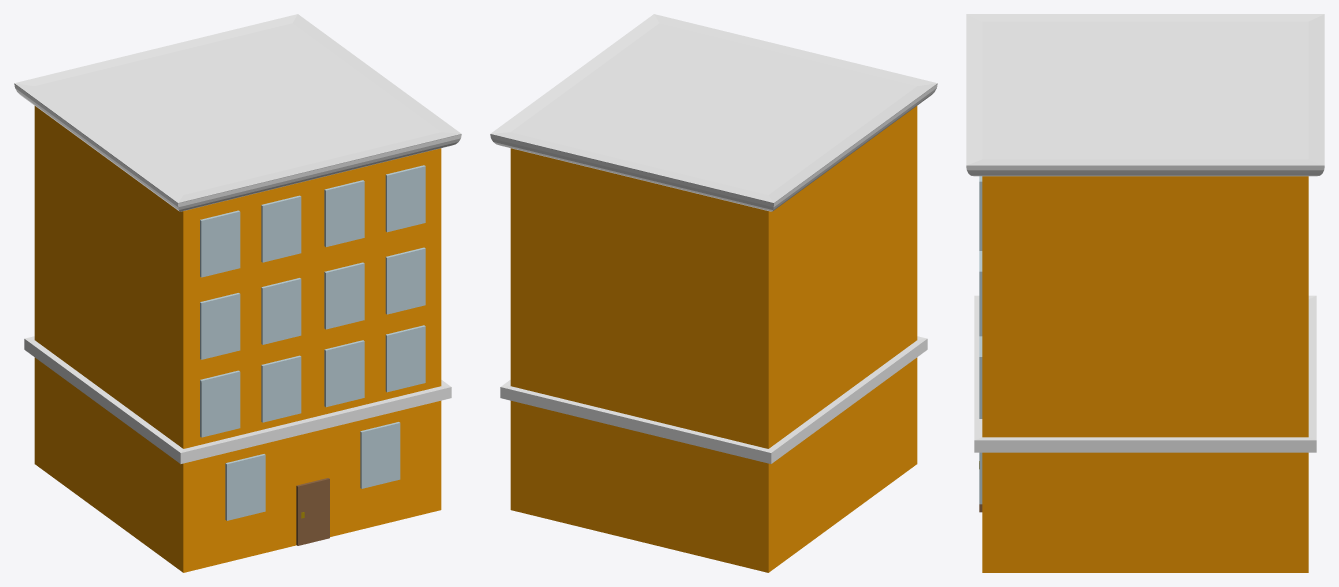
File: building3.fbx
3 renders of one model, left to right at view 1: azimuth 30°, elevation 25°; view 2: azimuth 150°, elevation 25°; view 3: azimuth 270°, elevation 25°, orthographic. The views are drawn at different scales.
Parts seen in each view (by area): view 1: Cube; view 2: Cube; view 3: Cube.
Part boxes in pixels (<box>): Cube: <box>14,14,461,572</box>; Cube: <box>490,14,937,572</box>; Cube: <box>966,14,1324,572</box>.
Size of the model in its own units: 1100 by 1402 by 1100.
